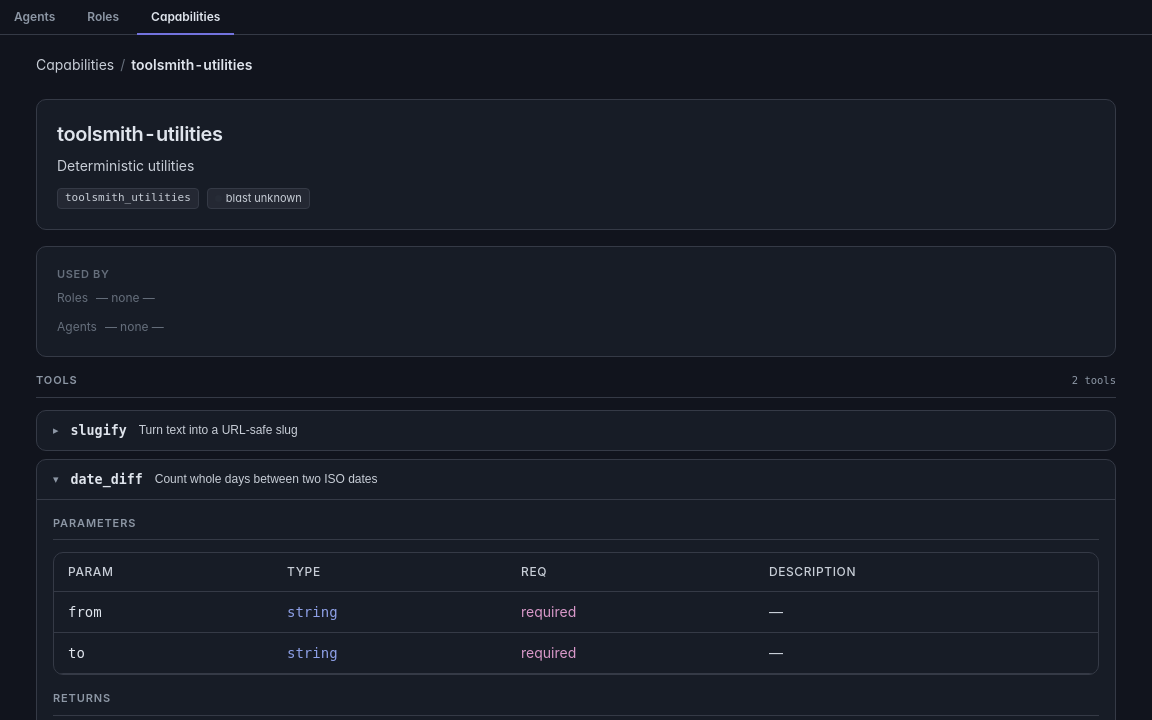
Test case: CapabilitiesPage detail — tools section deep-link › expands a different tool independently on click
Check: the text "from" is shown, box [68,604,102,620]
Click the button "▸ slugify Turn text into a URL-safe slug": (99, 430) [37,410,1115,450]
(page scrolled)
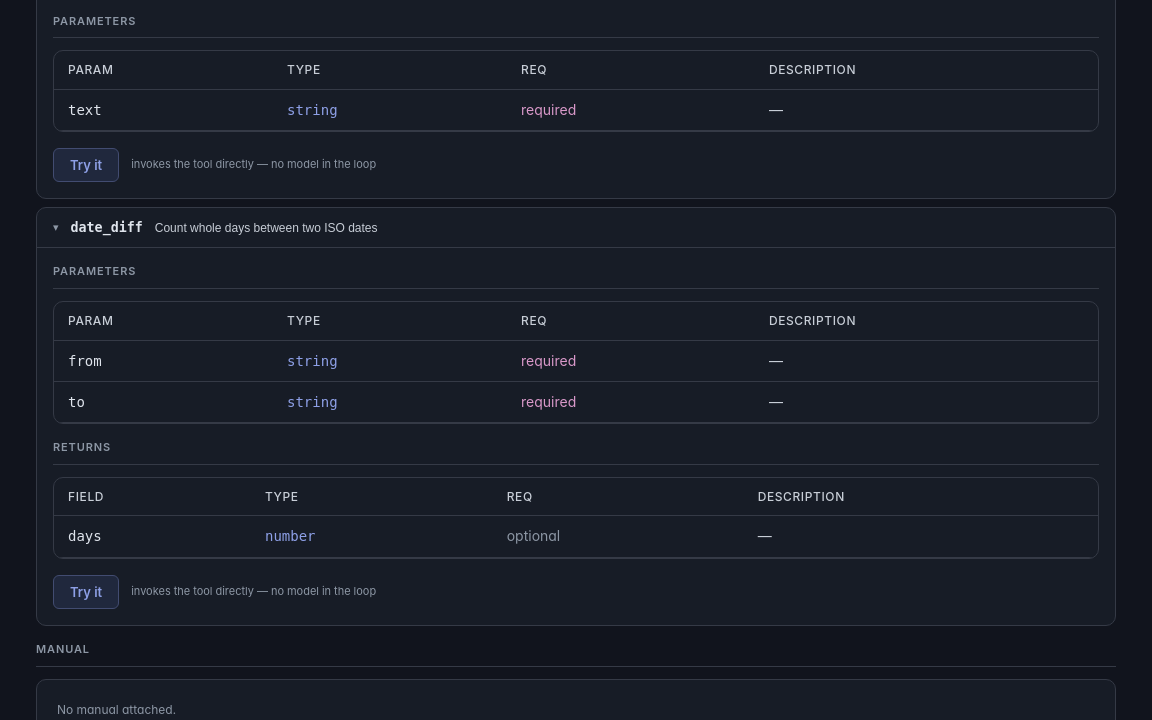
Check: the text "from" is shown, box [68,352,102,368]
Check: the text "text" is shown, box [68,102,102,118]
